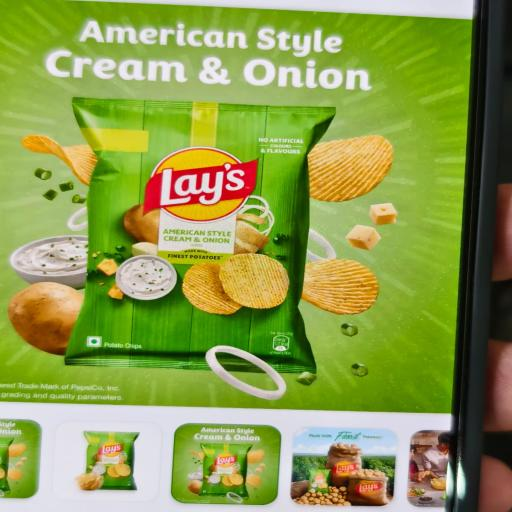green_chips: (65, 97, 335, 377)
